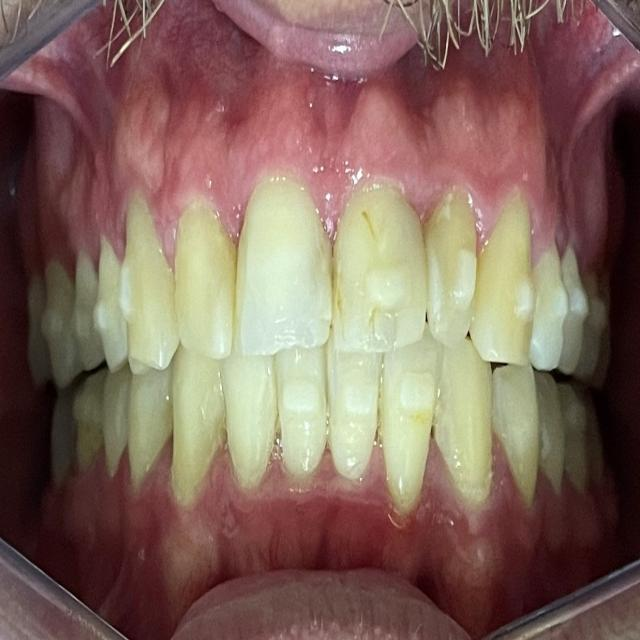tooth: (244, 182, 334, 346), (332, 204, 418, 360), (465, 188, 535, 361), (112, 224, 183, 390), (162, 202, 240, 349), (422, 185, 494, 338), (324, 345, 380, 491), (385, 353, 438, 504), (441, 360, 491, 502), (163, 358, 218, 484), (496, 379, 552, 491), (227, 346, 273, 465), (277, 361, 322, 472), (129, 369, 171, 481), (42, 259, 77, 373), (536, 255, 567, 366), (100, 238, 126, 362), (74, 256, 101, 364)
